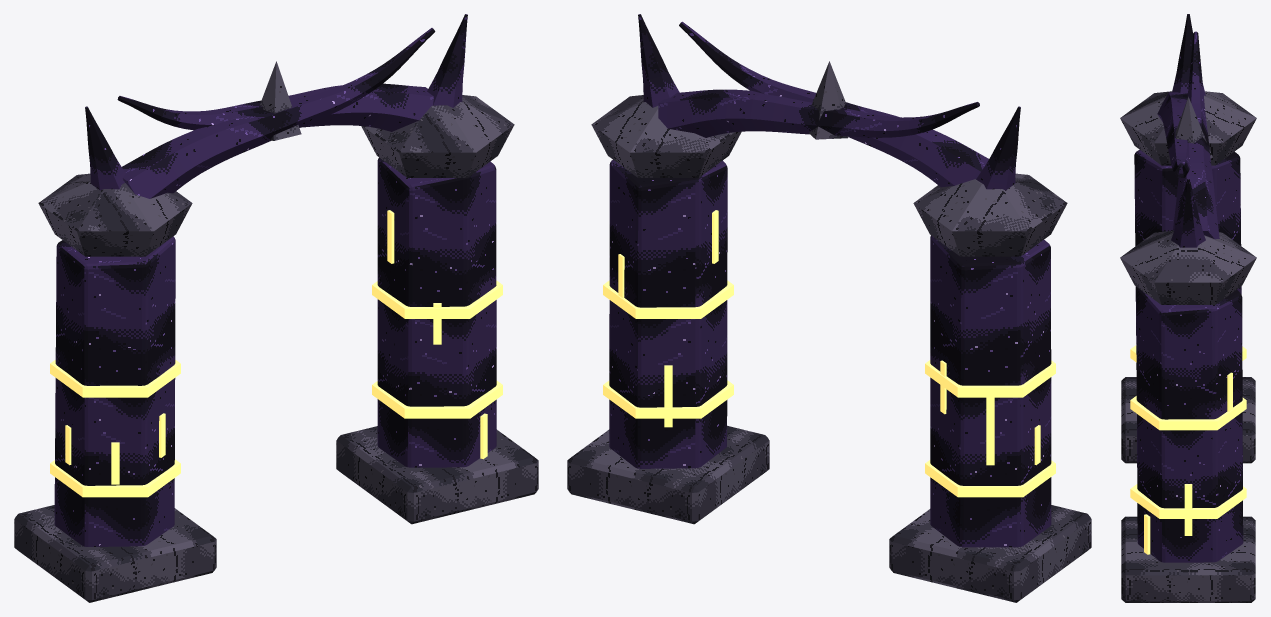
Rendered from crater_gate.glb.
The picture shows the model from 3 angles, left to right: view 1: azimuth 30°, elevation 25°; view 2: azimuth 150°, elevation 25°; view 3: azimuth 270°, elevation 25°; orthographic projection. The views are drawn at different scales.
Visible parts, largest first — view 1: Posts, Horns, Embers; view 2: Posts, Horns, Embers; view 3: Posts, Horns, Embers.
Part boxes in pixels (x1=…): Posts: x1=14, y1=95, x2=538, y2=602; Horns: x1=85, y1=14, x2=467, y2=198; Embers: x1=50, y1=210, x2=502, y2=497; Posts: x1=567, y1=95, x2=1091, y2=602; Horns: x1=638, y1=14, x2=1020, y2=190; Embers: x1=603, y1=210, x2=1055, y2=497; Posts: x1=1120, y1=91, x2=1256, y2=602; Horns: x1=1157, y1=14, x2=1219, y2=247; Embers: x1=1130, y1=345, x2=1246, y2=554.
Size of the model in its own units: 7.6 by 7.41 by 2.24.
Materials: 3 (2 with a texture image).
